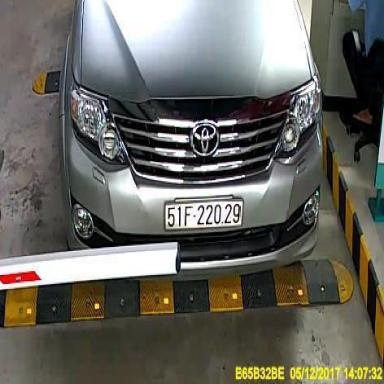License_Plate: (160, 195, 245, 233)
